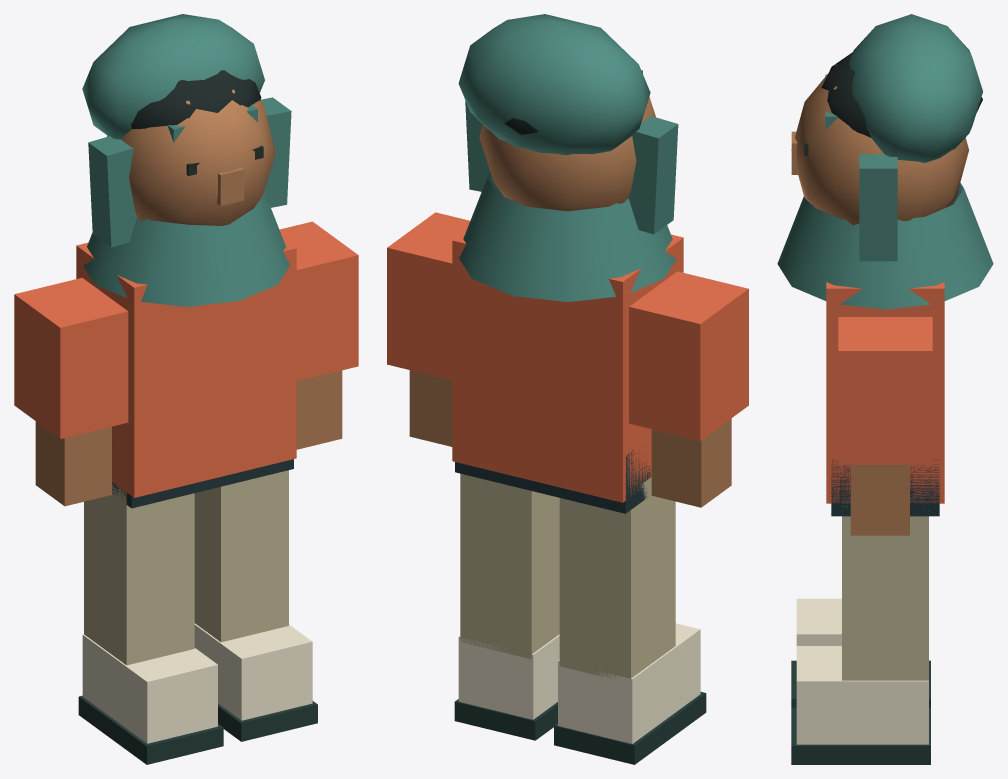
Rendered from female-tudung-short.glb.
The picture shows the model from 3 angles, left to right: view 1: azimuth 30°, elevation 25°; view 2: azimuth 150°, elevation 25°; view 3: azimuth 270°, elevation 25°; orthographic projection. The views are drawn at different scales.
Visible parts, largest first — view 1: female-tudung-short, avatar-tudung, tudung-neck-wrap; view 2: female-tudung-short, avatar-tudung, tudung-neck-wrap; view 3: female-tudung-short, avatar-tudung, tudung-neck-wrap.
Part boxes in pixels (bbox=[...]): female-tudung-short: bbox=[14, 70, 358, 764]; avatar-tudung: bbox=[82, 14, 291, 247]; tudung-neck-wrap: bbox=[83, 191, 290, 306]; female-tudung-short: bbox=[387, 97, 748, 764]; avatar-tudung: bbox=[458, 14, 678, 234]; tudung-neck-wrap: bbox=[459, 172, 676, 301]; female-tudung-short: bbox=[791, 51, 982, 764]; avatar-tudung: bbox=[825, 14, 982, 261]; tudung-neck-wrap: bbox=[777, 183, 993, 309].
Bounding box in the file's own units: 1.01 × 2.2 × 0.62.
